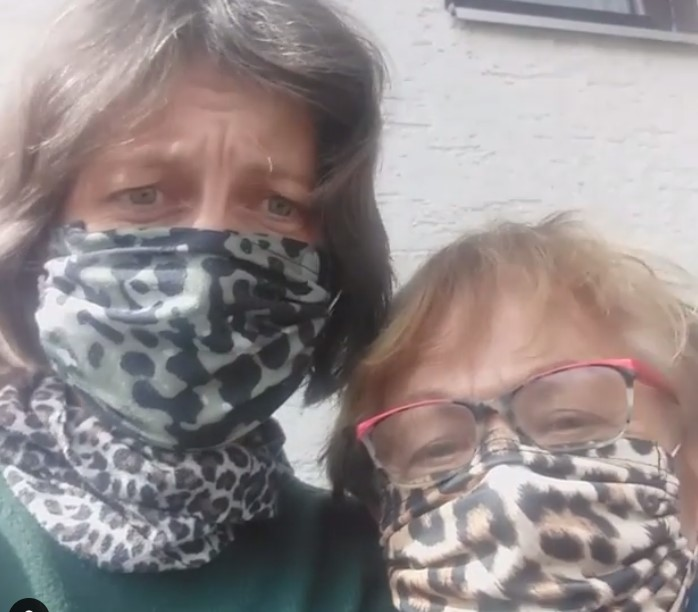face_with_mask: (37, 0, 365, 457), (352, 228, 696, 610)
